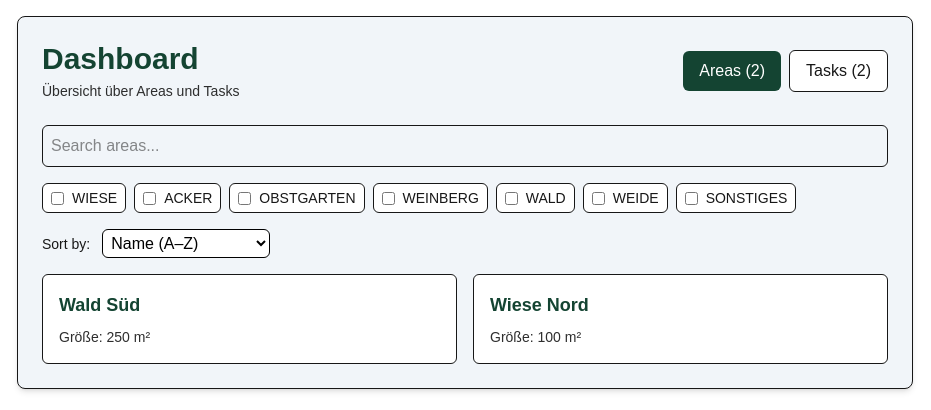
Test: Dashboard page › loads and displays areas and tasks and supports search/filter/toggle
Expected: the heading "Dashboard" is shown, [42,42,199,75]
Expected: the button "Areas (2)" is shown, [683,51,781,91]
# Search: type a term that matches only the second area
Step 1. Type "Wald" into the search field labelled "Search areas" → {"x": 465, "y": 146}, box [42,125,888,167]
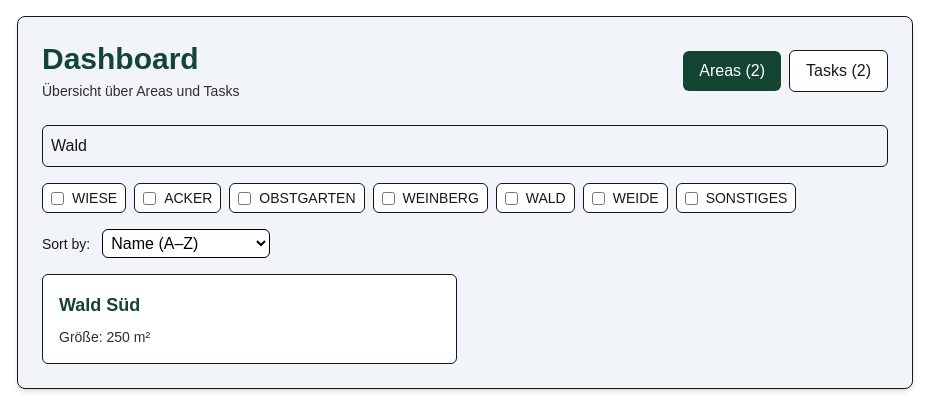
Expected: the heading "Wald Süd" is shown, [59,295,140,315]
Now the heading "Wiese Nord" is gone
# Clear search
Step 2. Clear the search field named "Search areas" → {"x": 465, "y": 146}, box [42,125,888,167]
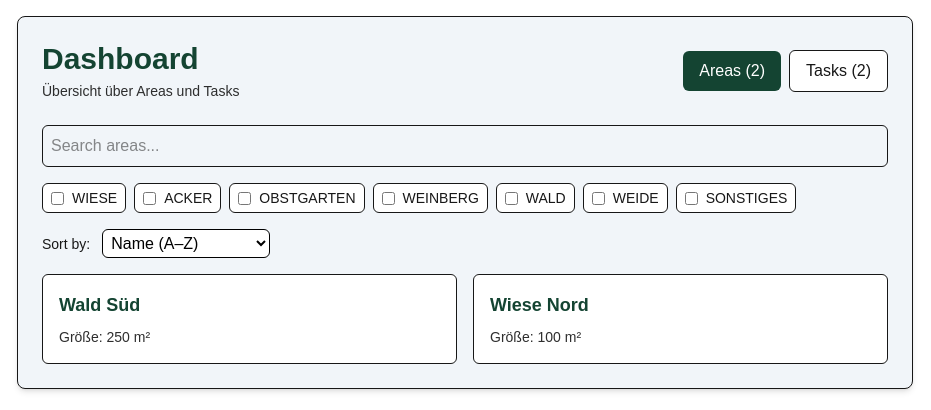
Expected: the heading "Wald Süd" is shown, [59,295,140,315]
Now the heading "Wiese Nord" is shown, box [490,295,589,315]
# Category filter: click the WALD filter checkbox to show only WALD
Step 3. Click the checkbox named "Filter WALD" → {"x": 511, "y": 198}, box [505,192,518,204]
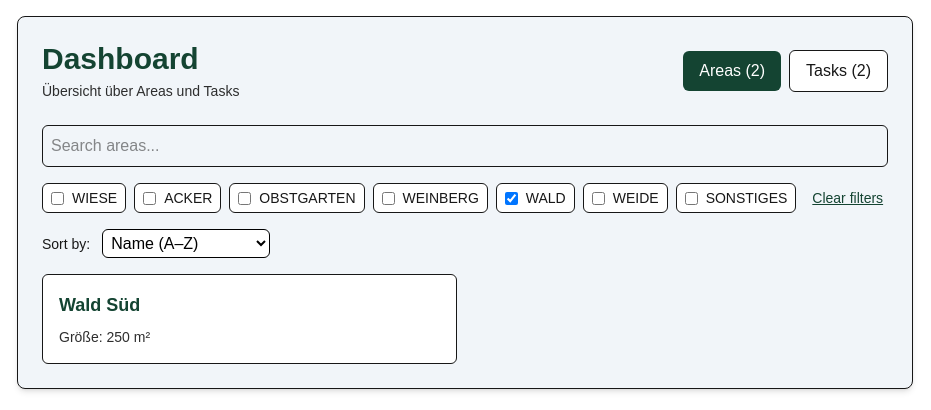
Expected: the heading "Wald Süd" is shown, [59,295,140,315]
Now the heading "Wiese Nord" is gone
# Toggle to tasks view
Step 4. Click the button "Tasks (2)" → {"x": 839, "y": 71}, box [789,50,888,92]
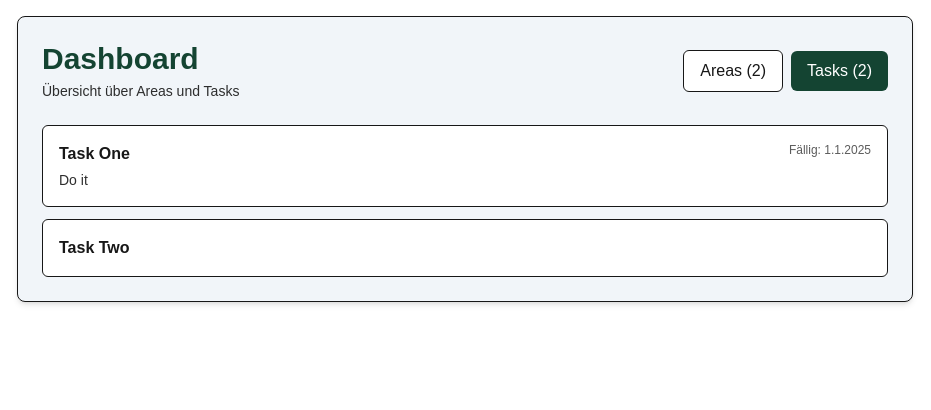
Now the heading "Task One" is shown, box [59,142,130,166]
Now the heading "Task Two" is shown, box [59,236,130,260]
Now the text "Fällig: 1.1.2025" is shown, box [789,142,871,158]
